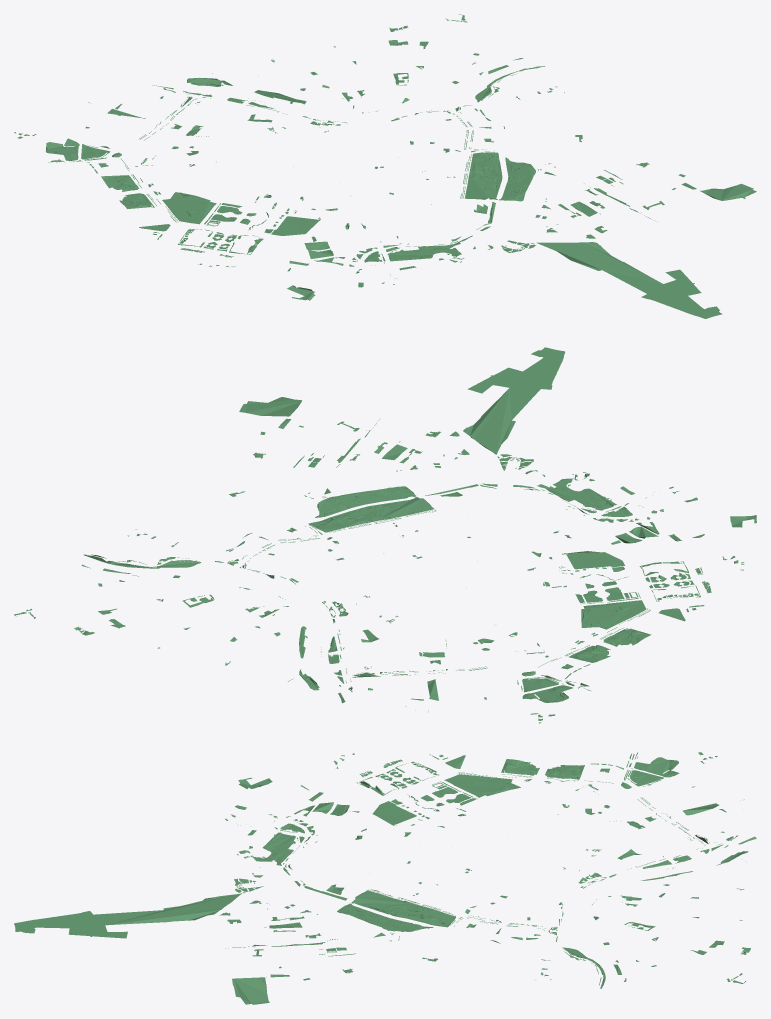
The model's file is green.glb.
3 renders of one model, top to bottom at view 1: azimuth 30°, elevation 25°; view 2: azimuth 150°, elevation 25°; view 3: azimuth 270°, elevation 25°, orthographic. The views are drawn at different scales.
Parts seen in each view (by area): view 1: green; view 2: green; view 3: green.
Boxes of the visible parts, x1=… form: green: x1=14, y1=14, x2=756, y2=318; green: x1=14, y1=347, x2=756, y2=723; green: x1=14, y1=752, x2=756, y2=1004.
Size of the model in its own units: 2689 by 54.63 by 3443.
